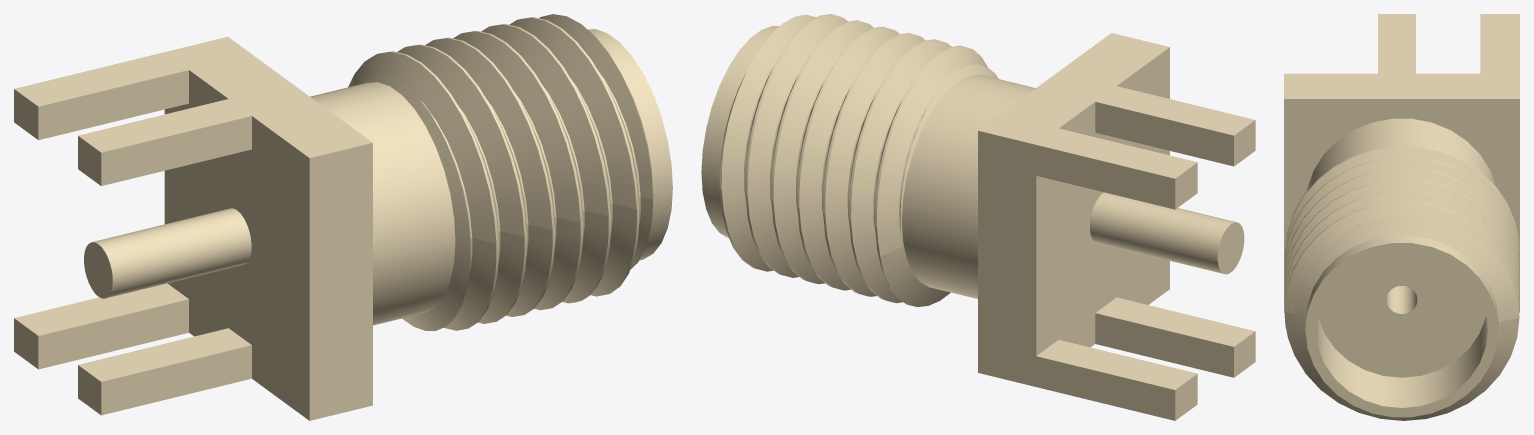
File: SMA_Samtec_SMA-J-P-H-ST-EM1_EdgeMount.glb
3 views of the same model, side by side, from view 1: azimuth 30°, elevation 25°; view 2: azimuth 150°, elevation 25°; view 3: azimuth 270°, elevation 25° (orthographic). The views are drawn at different scales.
Parts seen in each view (by area): view 1: Shape_IndexedFaceSet.003, Shape_IndexedFaceSet.021, Shape_IndexedFaceSet, Shape_IndexedFaceSet.002, Shape_IndexedFaceSet.020, Shape_IndexedFaceSet.038, Shape_IndexedFaceSet.050, Shape_IndexedFaceSet.054, Shape_IndexedFaceSet.046, Shape_IndexedFaceSet.042, Shape_IndexedFaceSet.034, Shape_IndexedFaceSet.058 (+22 smaller); view 2: Shape_IndexedFaceSet.003, Shape_IndexedFaceSet.021, Shape_IndexedFaceSet.005, Shape_IndexedFaceSet.002, Shape_IndexedFaceSet.020, Shape_IndexedFaceSet.054, Shape_IndexedFaceSet.046, Shape_IndexedFaceSet.042, Shape_IndexedFaceSet.050, Shape_IndexedFaceSet.038, Shape_IndexedFaceSet.058, Shape_IndexedFaceSet.034 (+21 smaller); view 3: Shape_IndexedFaceSet.066, Shape_IndexedFaceSet.004, Shape_IndexedFaceSet.061, Shape_IndexedFaceSet.002, Shape_IndexedFaceSet.064, Shape_IndexedFaceSet.065, Shape_IndexedFaceSet.021, Shape_IndexedFaceSet.053, Shape_IndexedFaceSet.057, Shape_IndexedFaceSet.045, Shape_IndexedFaceSet.041, Shape_IndexedFaceSet.037 (+12 smaller).
Part boxes in pixels (x1,y1,x2,y2): Shape_IndexedFaceSet.003: (164,70,309,420); Shape_IndexedFaceSet.021: (310,82,455,325); Shape_IndexedFaceSet: (309,143,372,420); Shape_IndexedFaceSet.002: (165,36,372,157); Shape_IndexedFaceSet.020: (92,208,251,298); Shape_IndexedFaceSet.038: (397,45,524,330); Shape_IndexedFaceSet.050: (481,24,608,310); Shape_IndexedFaceSet.054: (509,17,636,303); Shape_IndexedFaceSet.046: (453,31,580,316); Shape_IndexedFaceSet.042: (425,38,552,323); Shape_IndexedFaceSet.034: (348,52,496,243); Shape_IndexedFaceSet.058: (539,14,652,296); Shape_IndexedFaceSet.003: (1036,47,1169,355); Shape_IndexedFaceSet.021: (902,74,1035,298); Shape_IndexedFaceSet.005: (978,130,1036,386); Shape_IndexedFaceSet.002: (978,33,1169,144); Shape_IndexedFaceSet.020: (1090,192,1236,273); Shape_IndexedFaceSet.054: (747,14,847,277); Shape_IndexedFaceSet.046: (799,27,899,290); Shape_IndexedFaceSet.042: (825,33,925,296); Shape_IndexedFaceSet.050: (773,21,873,284); Shape_IndexedFaceSet.038: (851,39,951,303); Shape_IndexedFaceSet.058: (721,14,815,271); Shape_IndexedFaceSet.034: (877,46,987,256); Shape_IndexedFaceSet.066: (1318,252,1485,377); Shape_IndexedFaceSet.004: (1284,99,1519,312); Shape_IndexedFaceSet.061: (1294,215,1519,392); Shape_IndexedFaceSet.002: (1284,73,1519,98); Shape_IndexedFaceSet.064: (1305,243,1498,417); Shape_IndexedFaceSet.065: (1316,315,1487,407); Shape_IndexedFaceSet.021: (1307,118,1495,190); Shape_IndexedFaceSet.053: (1284,202,1519,313); Shape_IndexedFaceSet.057: (1284,311,1519,420); Shape_IndexedFaceSet.045: (1284,180,1519,289); Shape_IndexedFaceSet.041: (1284,169,1519,278); Shape_IndexedFaceSet.037: (1284,158,1519,266).
Size of the model in its own units: 5.25 by 2.5 by 2.5.
